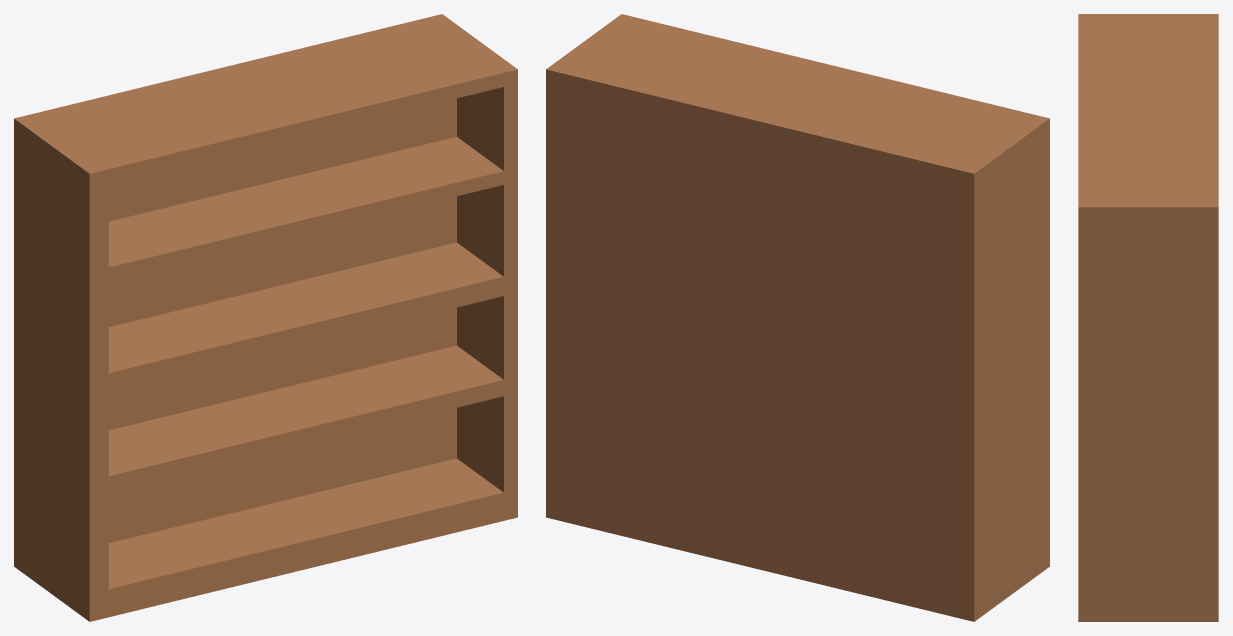
Rendered from bookshelf.glb.
The picture shows the model from 3 angles, left to right: view 1: azimuth 30°, elevation 25°; view 2: azimuth 150°, elevation 25°; view 3: azimuth 270°, elevation 25°; orthographic projection. The views are drawn at different scales.
Visible parts, largest first — view 1: Cube; view 2: Cube; view 3: Cube.
Boxes of the visible parts, x1,y1,x2,y2 form: Cube: [14, 14, 517, 621]; Cube: [546, 14, 1049, 621]; Cube: [1078, 14, 1218, 621].
Bounding box in the file's own units: 2 × 2 × 0.6124.
